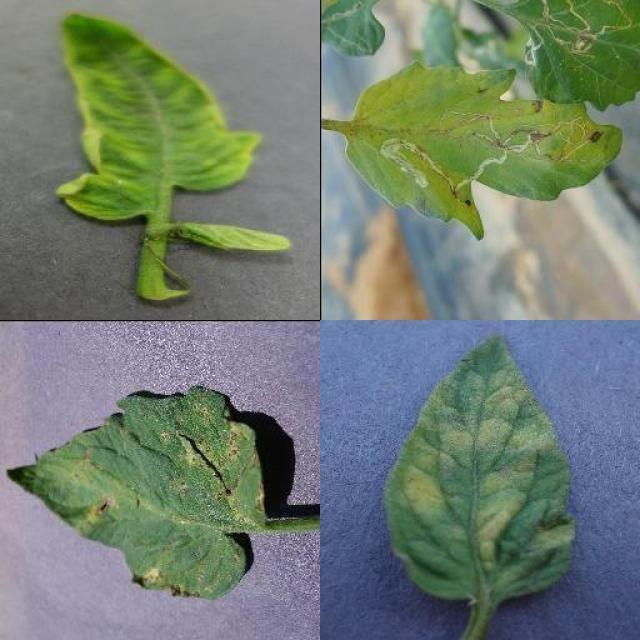Septoria: (5, 382, 270, 598)
